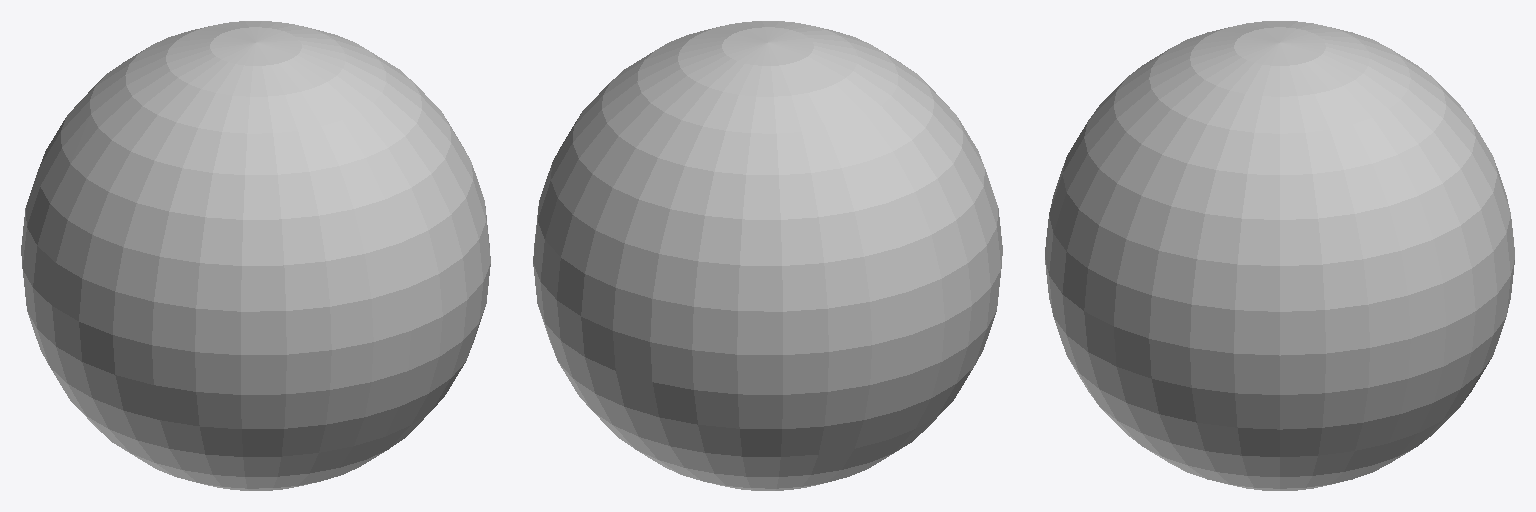
3 renders of one model, left to right at view 1: azimuth 30°, elevation 25°; view 2: azimuth 150°, elevation 25°; view 3: azimuth 270°, elevation 25°, orthographic.
Parts seen in each view (by area): view 1: Kugla_UW; view 2: Kugla_UW; view 3: Kugla_UW.
Boxes of the visible parts, box(x1,y1,x2,y2) form: Kugla_UW: box(21, 21, 490, 490); Kugla_UW: box(533, 21, 1002, 490); Kugla_UW: box(1045, 21, 1514, 490).
Size of the model in its own units: 50 by 50 by 50.